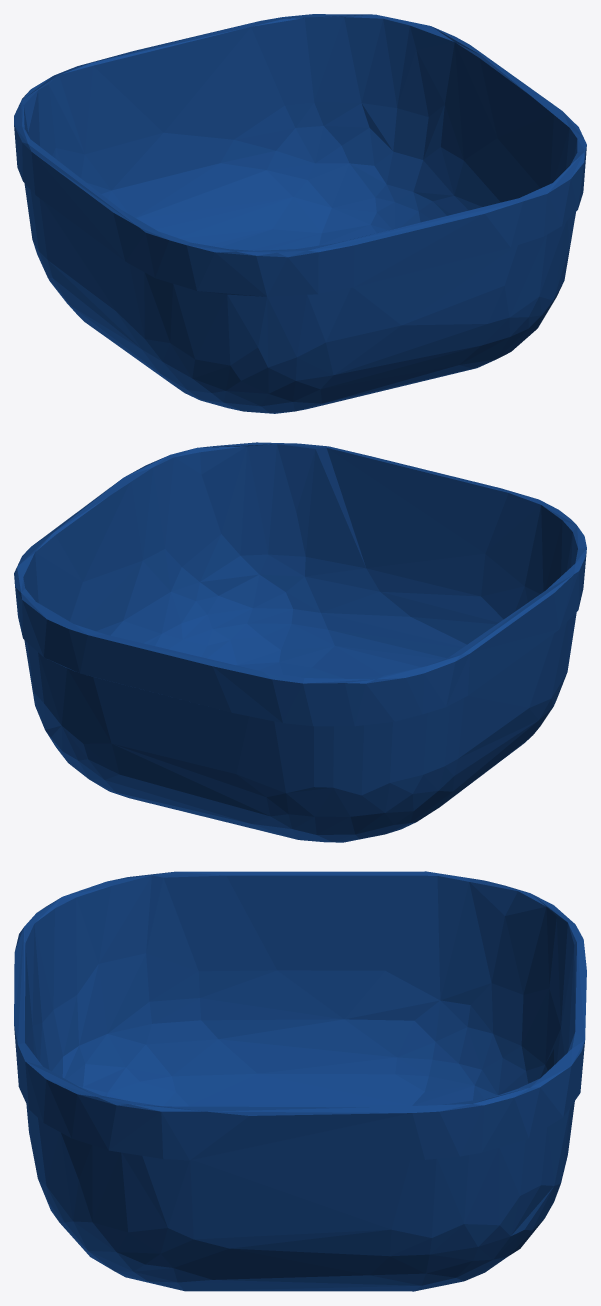
The model's file is dishware_plastic_smallplate_a01.glb.
3 renders of one model, top to bottom at view 1: azimuth 30°, elevation 25°; view 2: azimuth 150°, elevation 25°; view 3: azimuth 270°, elevation 25°, orthographic. The views are drawn at different scales.
Parts seen in each view (by area): view 1: part0; view 2: part0; view 3: part0.
Part boxes in pixels (bbox=[...]): part0: bbox=[14, 14, 586, 413]; part0: bbox=[14, 442, 586, 842]; part0: bbox=[14, 871, 586, 1291].
Size of the model in its own units: 0.0991 by 0.0454 by 0.0991.
